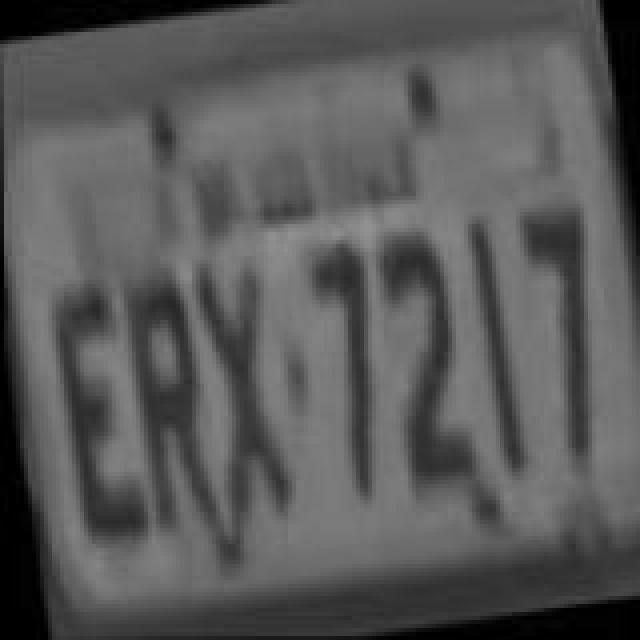1: (460, 220, 524, 484)
2: (368, 230, 480, 498)
7: (296, 240, 400, 508), (516, 208, 620, 464)
E: (46, 280, 158, 552)
R: (118, 270, 222, 542)
X: (188, 258, 296, 526)
